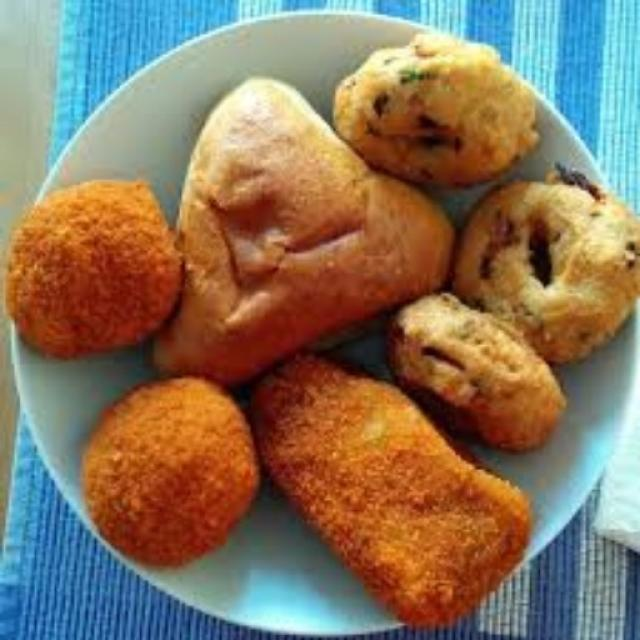Cutlet: (94, 392, 248, 548), (17, 189, 170, 342)
